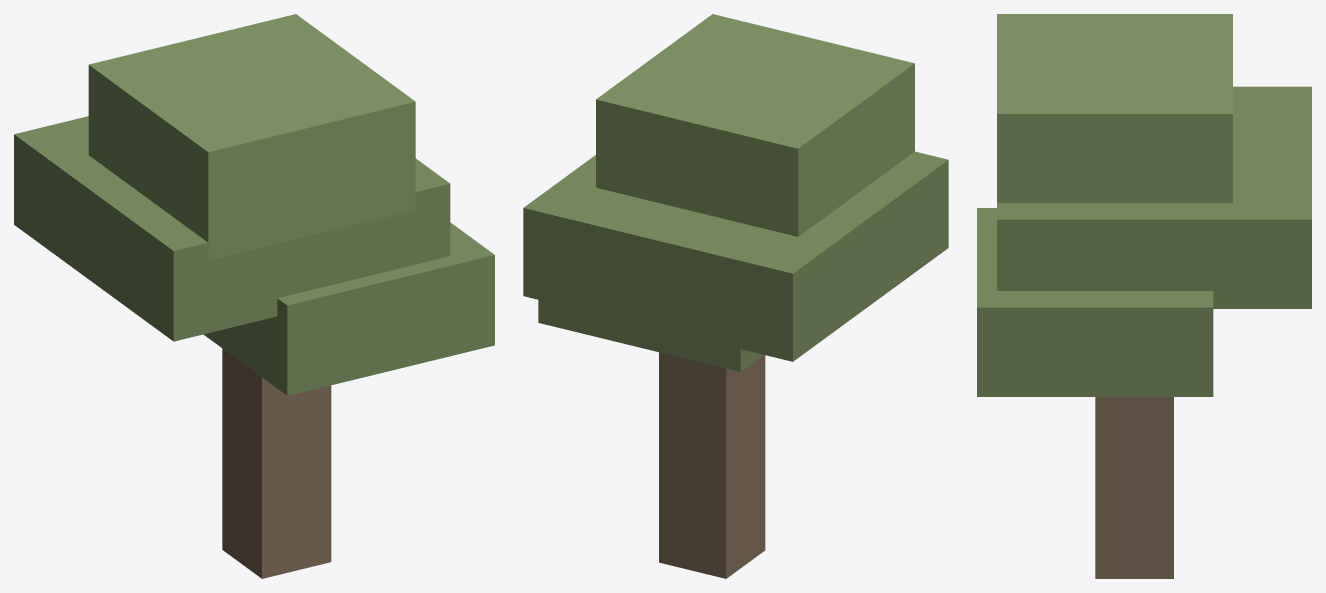
The model's file is espino_albar_03.glb.
3 views of the same model, side by side, from view 1: azimuth 30°, elevation 25°; view 2: azimuth 150°, elevation 25°; view 3: azimuth 270°, elevation 25° (orthographic). The views are drawn at different scales.
Visible parts, largest first — view 1: espino_albar_03; view 2: espino_albar_03; view 3: espino_albar_03.
Boxes of the visible parts, box(x1,y1,x2,y2) form: espino_albar_03: box(14, 14, 494, 578); espino_albar_03: box(523, 14, 948, 578); espino_albar_03: box(977, 14, 1311, 578).
Size of the model in its own units: 1.8 by 2.7 by 1.7.
